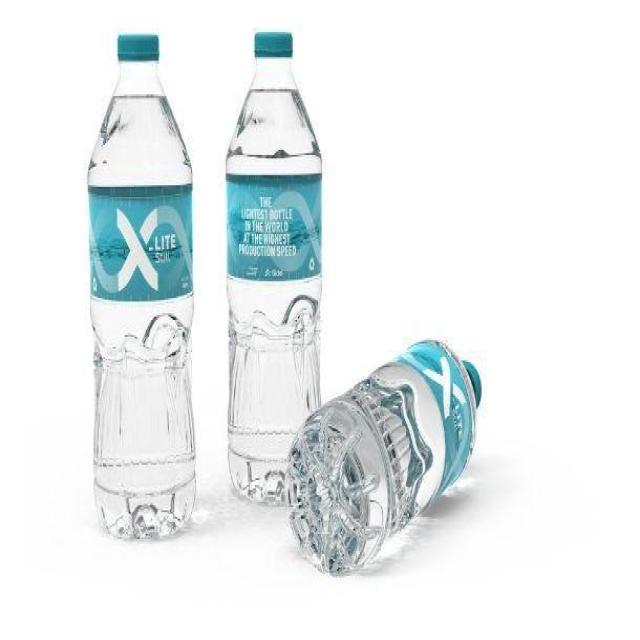bottle: (82, 12, 202, 546), (224, 14, 330, 548), (288, 326, 492, 583)
